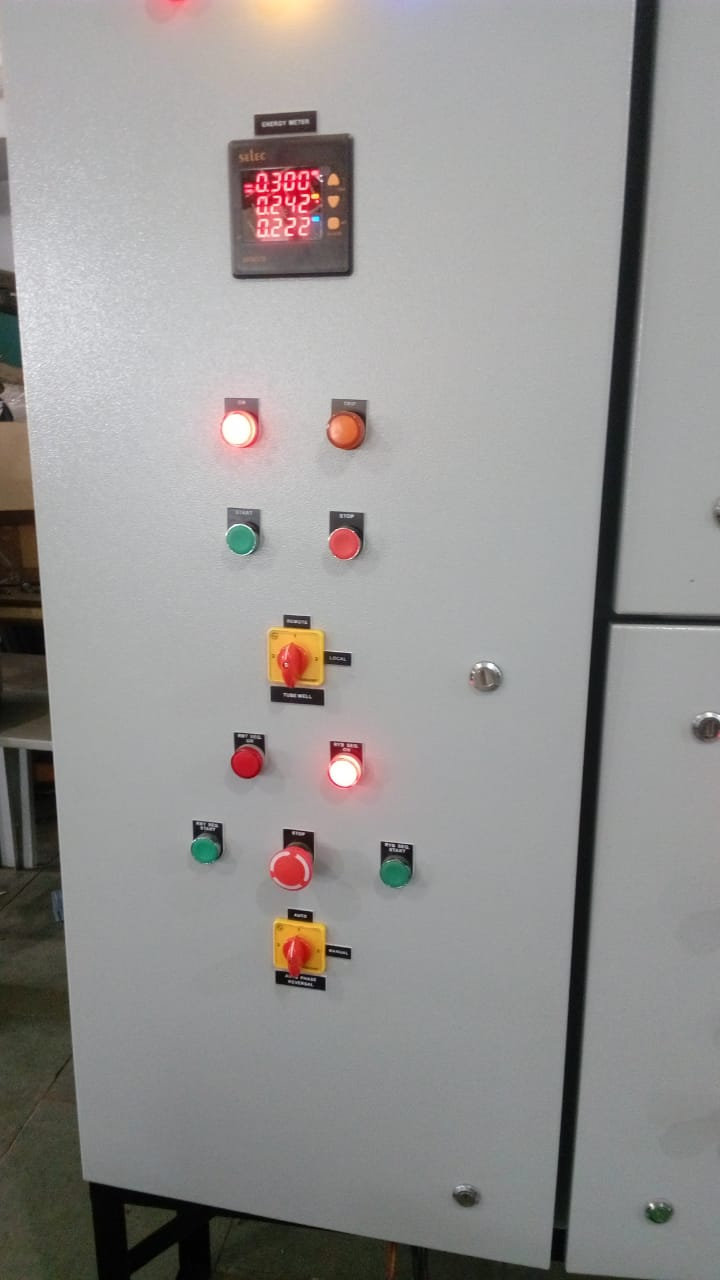Green_Led_Off: (363, 823, 435, 907), (206, 495, 289, 567), (175, 813, 239, 880)
Orange_Led_Off: (315, 391, 379, 467)
Red_Led_Off: (220, 723, 286, 798), (317, 502, 375, 574)
Red_Led_On: (308, 734, 388, 812), (210, 389, 278, 462)
